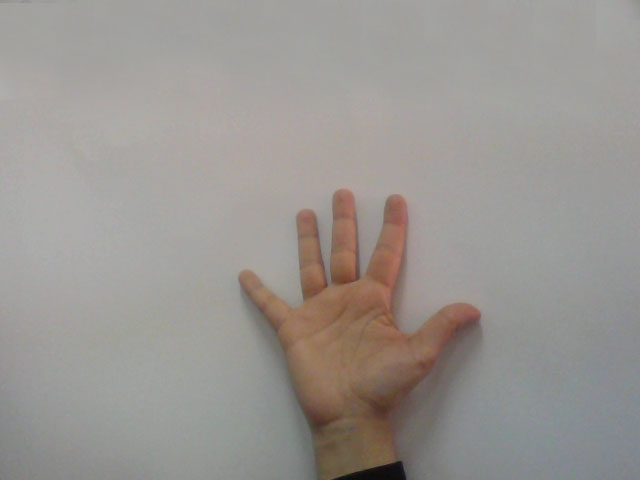hand: (227, 177, 493, 412)
